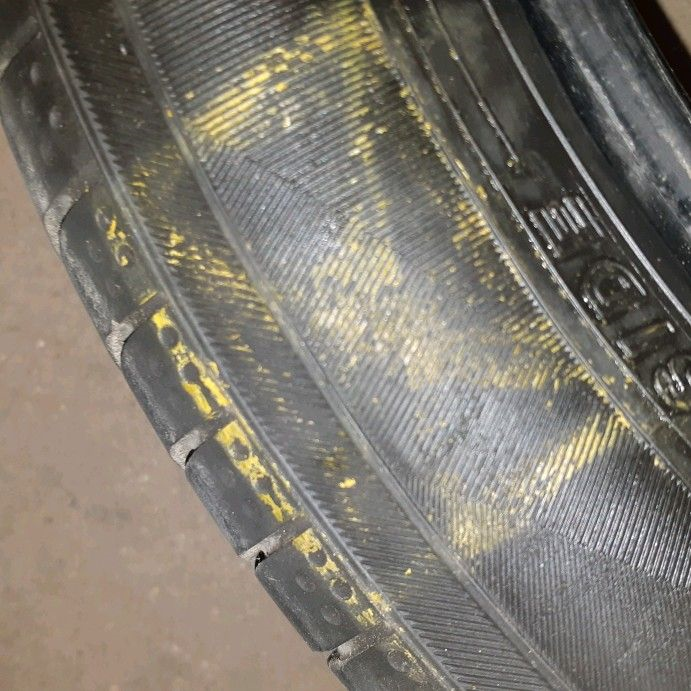CBU: (197, 169, 485, 459)
